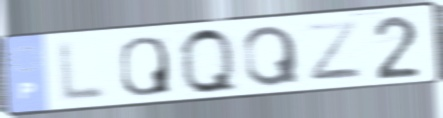2: (371, 12, 424, 82)
L: (56, 38, 109, 105)
Q: (175, 24, 243, 97), (240, 23, 303, 89), (117, 34, 175, 98)
Z: (304, 18, 366, 83)
